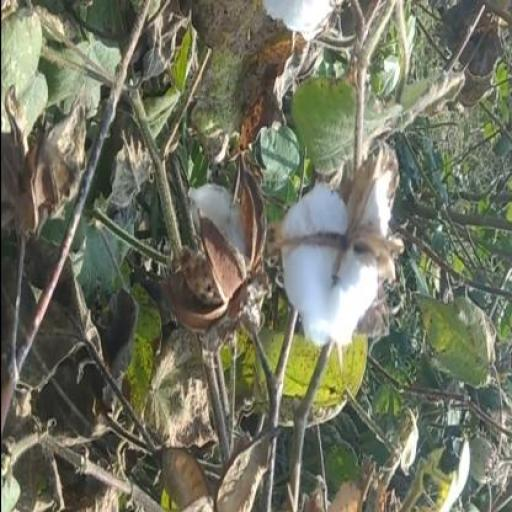cotton_ready: (272, 114, 402, 372)
